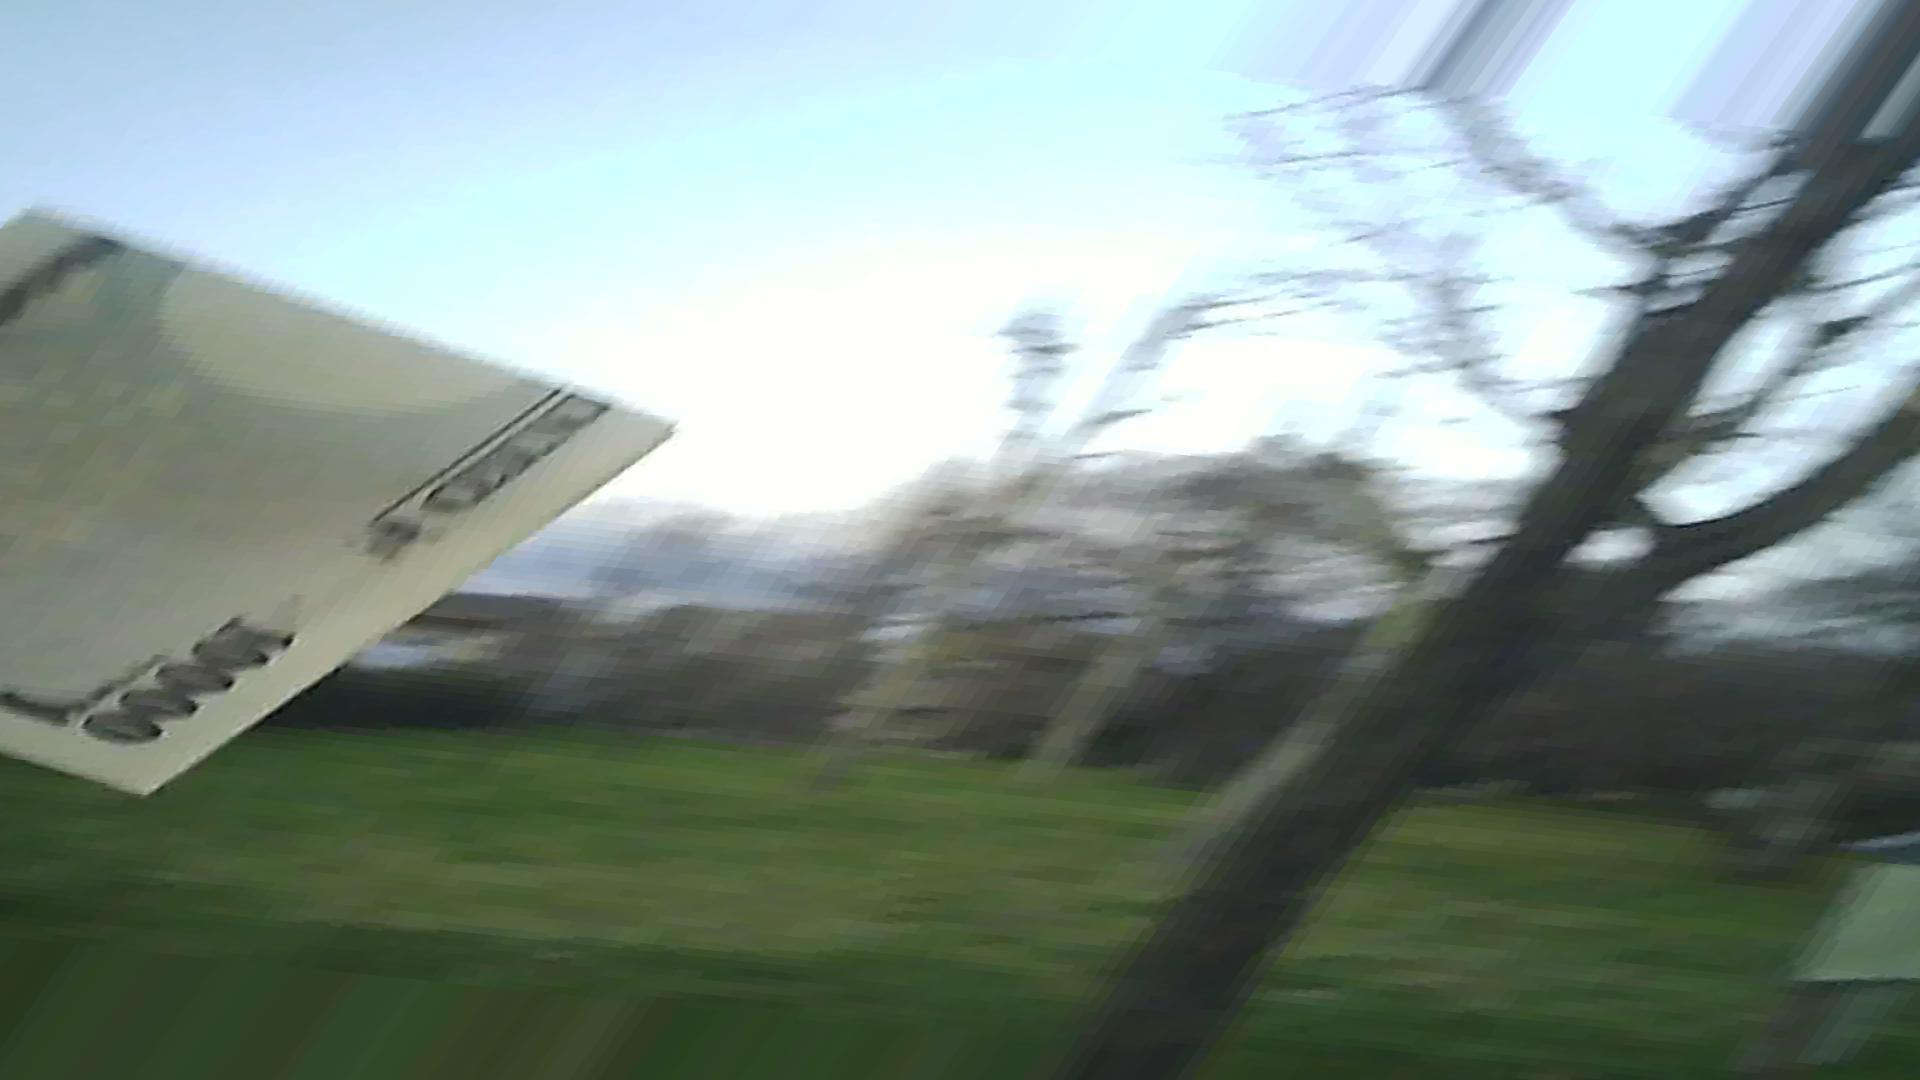10,000 Yen: (1, 193, 640, 800)
